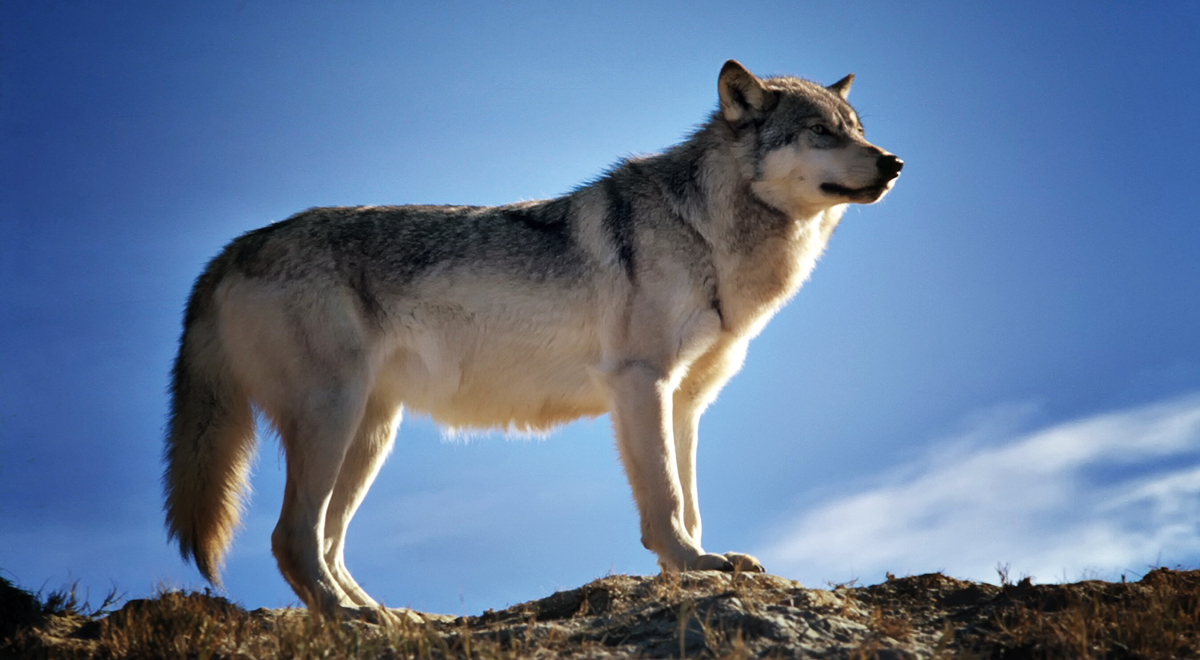wolf: (95, 62, 923, 624)
